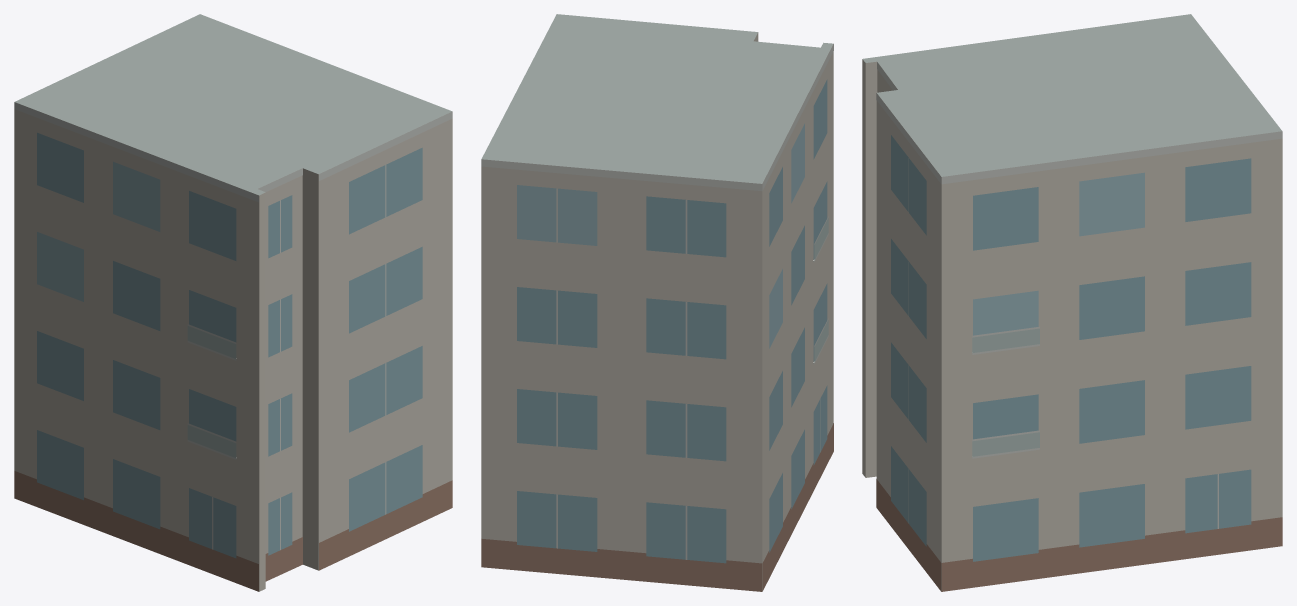
Rendered from survey-upis-33007891.glb.
3 renders of one model, left to right at view 1: azimuth 30°, elevation 25°; view 2: azimuth 150°, elevation 25°; view 3: azimuth 270°, elevation 25°, orthographic. The views are drawn at different scales.
Parts seen in each view (by area): view 1: survey-upis-33007891.tmp; view 2: survey-upis-33007891.tmp; view 3: survey-upis-33007891.tmp.
Boxes of the visible parts, x1,y1,x2,y2 form: survey-upis-33007891.tmp: [14, 14, 452, 591]; survey-upis-33007891.tmp: [481, 14, 833, 591]; survey-upis-33007891.tmp: [862, 14, 1282, 591].
Size of the model in its own units: 11.55 by 13.7 by 12.58.
